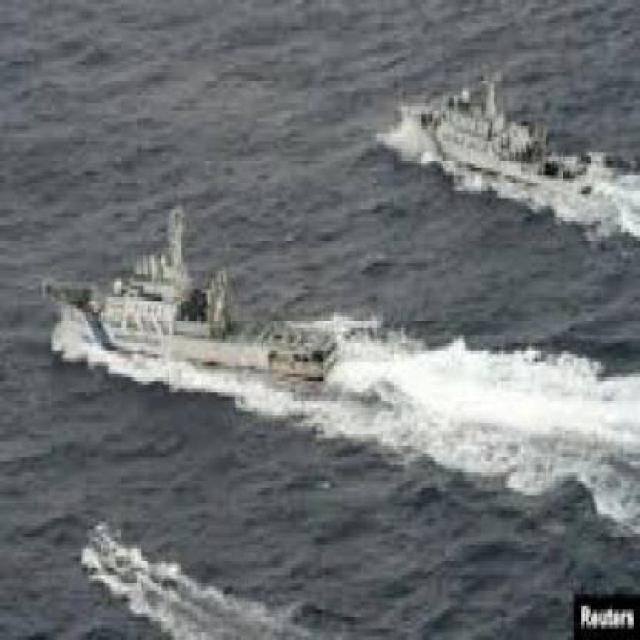fish-b: (20, 210, 359, 432)
